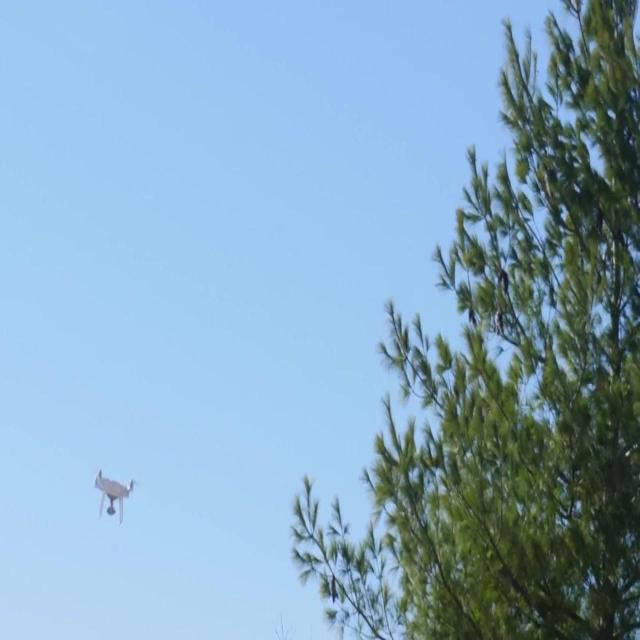drone: (93, 464, 138, 527)
